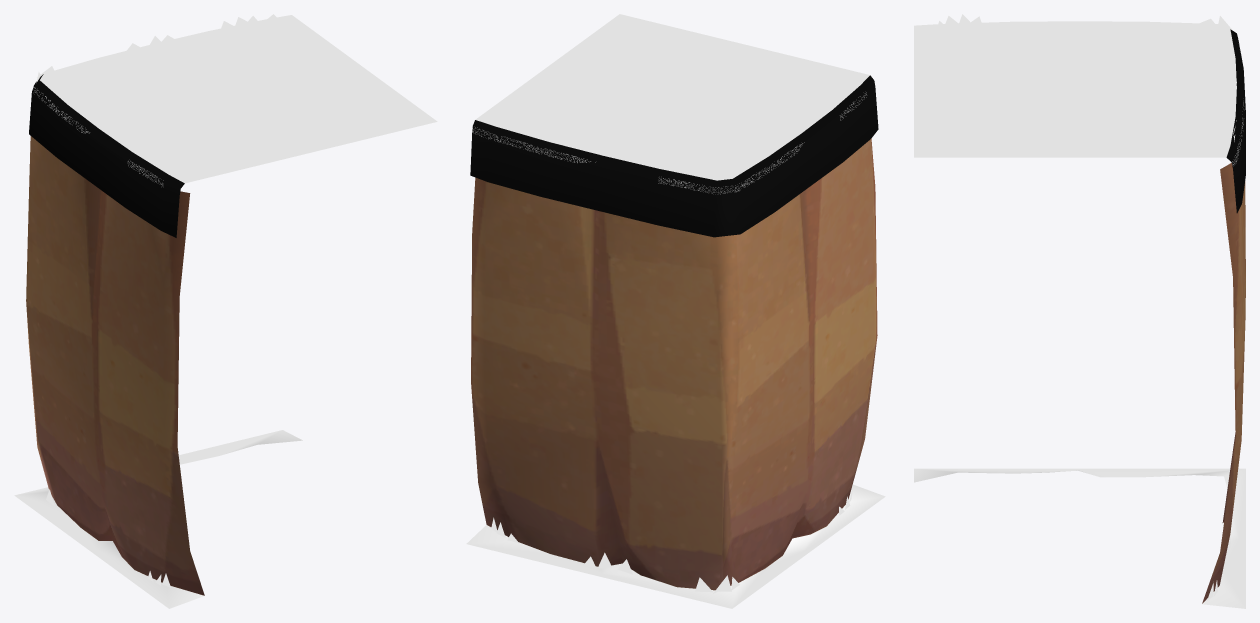
The picture shows the model from 3 angles, left to right: view 1: azimuth 30°, elevation 25°; view 2: azimuth 150°, elevation 25°; view 3: azimuth 270°, elevation 25°; orthographic projection. The views are drawn at different scales.
Parts seen in each view (by area): view 1: Cliff__mCliff, GrassT__mGrass, GrassOP__mGrassCliffXlu, GrassB__mGrass, PGrassBB__mProcGrass; view 2: Cliff__mCliff, GrassT__mGrass, GrassOP__mGrassCliffXlu, GrassB__mGrass, PGrassBB__mProcGrass; view 3: GrassT__mGrass, GrassB__mGrass, Cliff__mCliff, GrassOP__mGrassCliffXlu, PGrassBB__mProcGrass.
Part boxes in pixels (x1=…): Cliff__mCliff: x1=26, y1=136, x2=204, y2=595; GrassT__mGrass: x1=33, y1=15, x2=437, y2=185; GrassOP__mGrassCliffXlu: x1=29, y1=74, x2=184, y2=237; GrassB__mGrass: x1=14, y1=430, x2=302, y2=608; PGrassBB__mProcGrass: x1=36, y1=14, x2=277, y2=587; Cliff__mCliff: x1=471, y1=138, x2=877, y2=590; GrassT__mGrass: x1=472, y1=14, x2=869, y2=194; GrassOP__mGrassCliffXlu: x1=470, y1=75, x2=878, y2=237; GrassB__mGrass: x1=466, y1=484, x2=885, y2=608; PGrassBB__mProcGrass: x1=491, y1=77, x2=857, y2=593; GrassT__mGrass: x1=914, y1=21, x2=1243, y2=164; GrassB__mGrass: x1=914, y1=468, x2=1245, y2=608; Cliff__mCliff: x1=1202, y1=163, x2=1245, y2=603; GrassOP__mGrassCliffXlu: x1=1226, y1=29, x2=1245, y2=213; PGrassBB__mProcGrass: x1=937, y1=14, x2=1236, y2=600.
Size of the model in its own units: 10 by 15.38 by 10.
4 materials, 1 textured.
